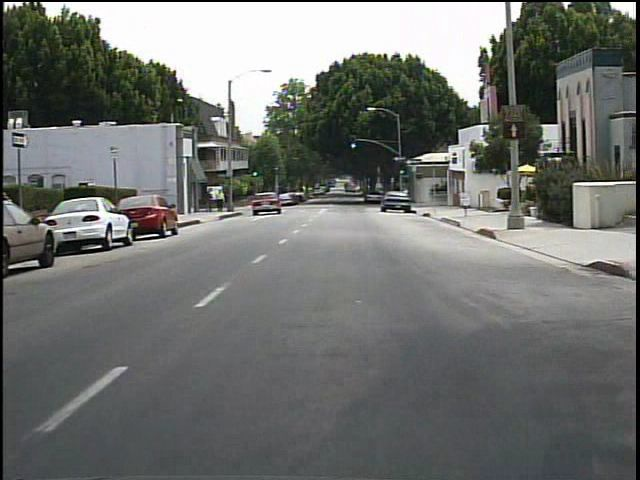person: (204, 189, 217, 216), (216, 188, 228, 213)
